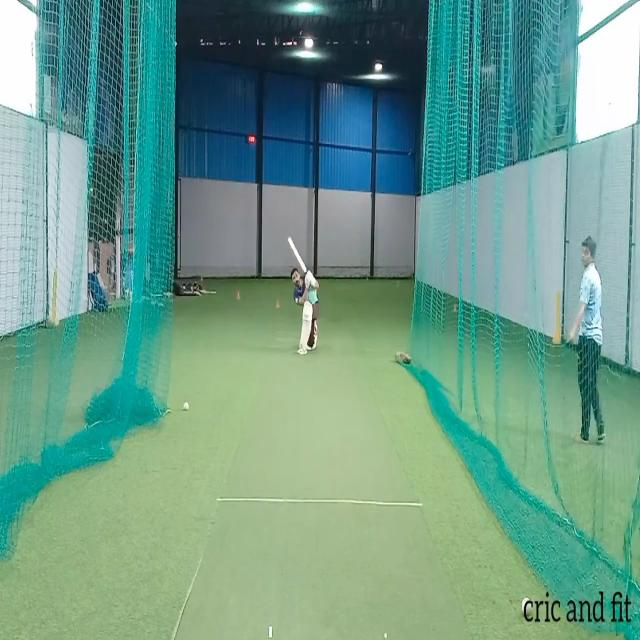batsman: (287, 235, 321, 356)
